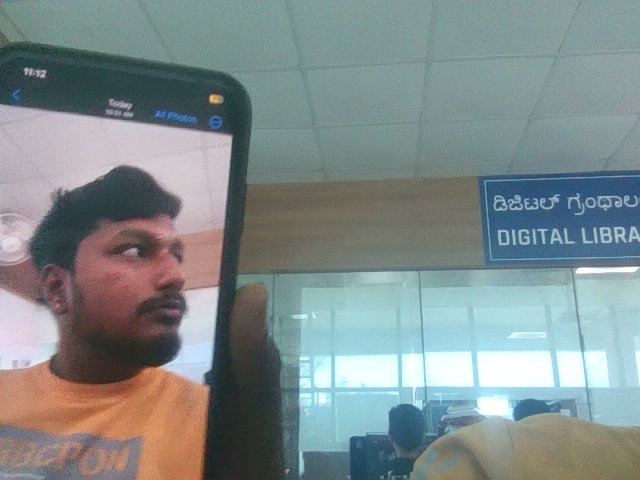fake: (62, 145, 220, 369)
